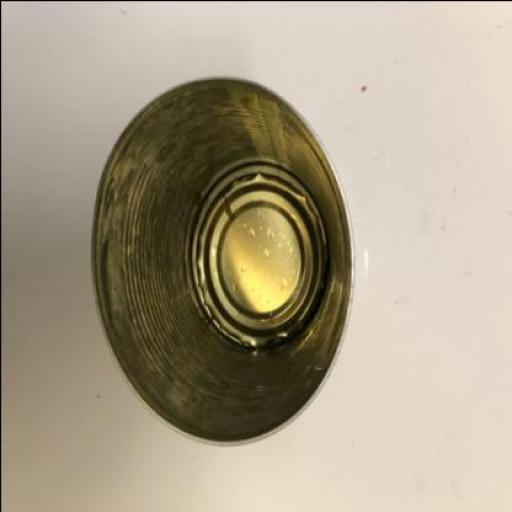metal: (91, 76, 355, 447)
